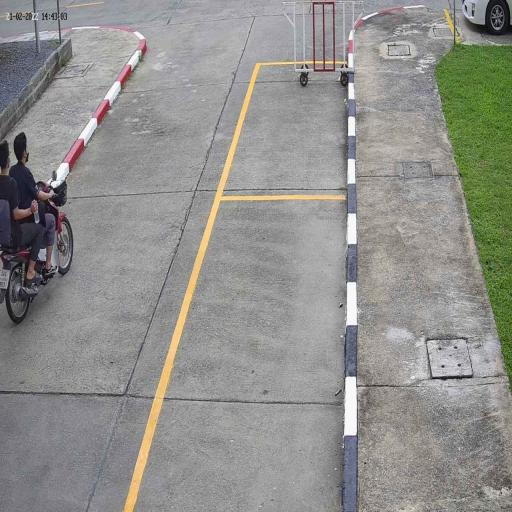motorcycle: (0, 214, 74, 324)
